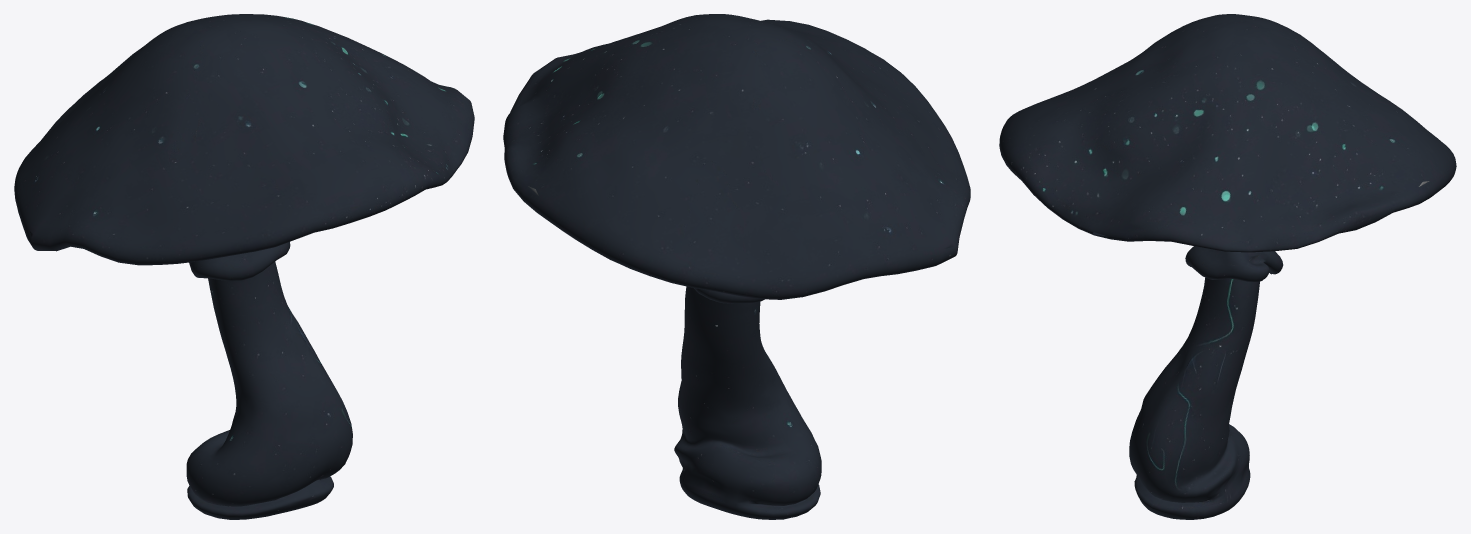
Rendered from mushroom.glb.
3 renders of one model, left to right at view 1: azimuth 30°, elevation 25°; view 2: azimuth 150°, elevation 25°; view 3: azimuth 270°, elevation 25°, orthographic. The views are drawn at different scales.
Parts seen in each view (by area): view 1: tripo_node_4013f3e0-04c0-4423-9810-79f5d849ea4c; view 2: tripo_node_4013f3e0-04c0-4423-9810-79f5d849ea4c; view 3: tripo_node_4013f3e0-04c0-4423-9810-79f5d849ea4c.
Boxes of the visible parts, bbox=[...] form: tripo_node_4013f3e0-04c0-4423-9810-79f5d849ea4c: bbox=[14, 14, 474, 519]; tripo_node_4013f3e0-04c0-4423-9810-79f5d849ea4c: bbox=[503, 14, 970, 519]; tripo_node_4013f3e0-04c0-4423-9810-79f5d849ea4c: bbox=[999, 14, 1456, 519].
Bounding box in the file's own units: 0.9468 × 0.9995 × 0.894.
Materials: 1 (1 with a texture image).
